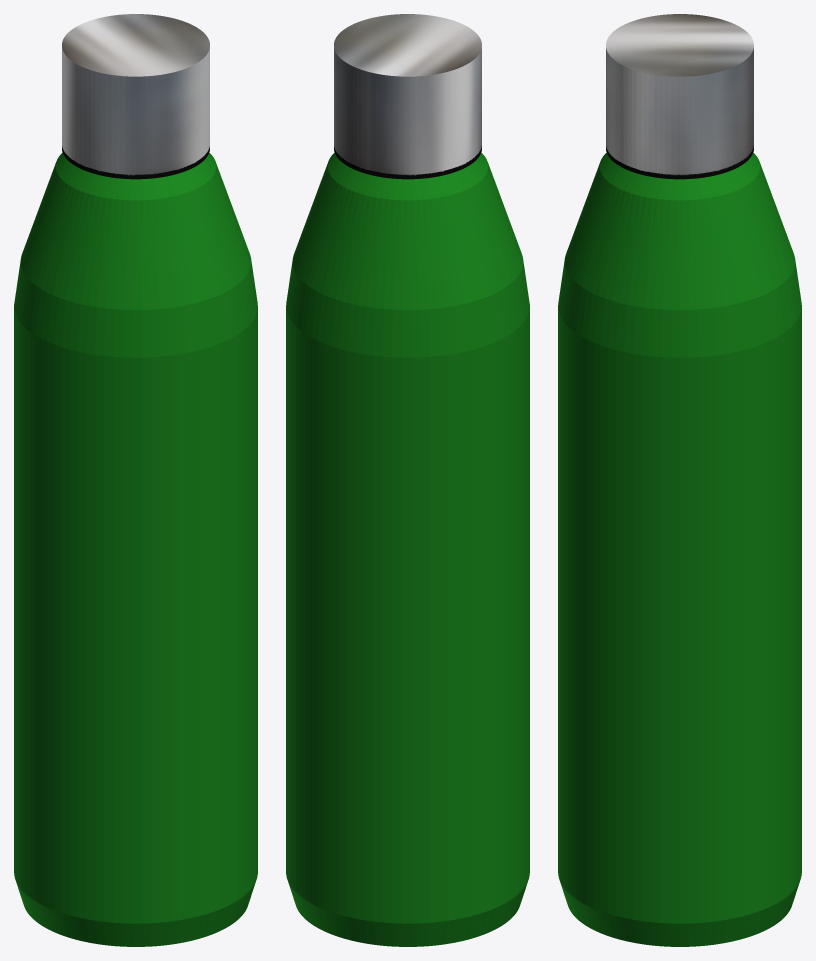
3 renders of one model, left to right at view 1: azimuth 30°, elevation 25°; view 2: azimuth 150°, elevation 25°; view 3: azimuth 270°, elevation 25°, orthographic.
Visible parts, largest first — view 1: Cylinder, Cylinder.002, Cylinder.001; view 2: Cylinder, Cylinder.002, Cylinder.001; view 3: Cylinder, Cylinder.002, Cylinder.001.
Part boxes in pixels (left/top/right/bottom): Cylinder: left=14, top=152, right=257, bottom=946; Cylinder.002: left=62, top=14, right=209, bottom=175; Cylinder.001: left=62, top=146, right=209, bottom=179; Cylinder: left=286, top=152, right=529, bottom=946; Cylinder.002: left=334, top=14, right=481, bottom=175; Cylinder.001: left=334, top=146, right=481, bottom=179; Cylinder: left=558, top=152, right=801, bottom=946; Cylinder.002: left=606, top=14, right=753, bottom=175; Cylinder.001: left=606, top=146, right=753, bottom=179.
Bounding box in the file's own units: 1.82 × 7.05 × 1.82.
3 materials, 1 textured.
